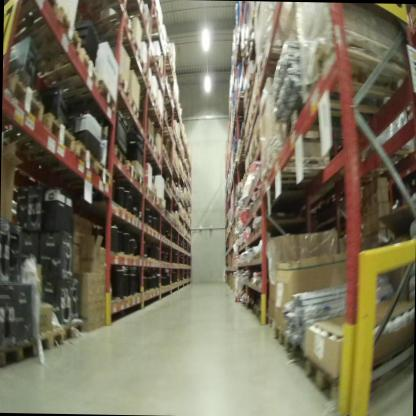pallet: (305, 43, 398, 114), (308, 340, 403, 404), (10, 5, 92, 71), (28, 44, 109, 95), (11, 106, 78, 165), (2, 70, 47, 148), (35, 135, 100, 185), (261, 161, 345, 198), (56, 79, 119, 125), (256, 36, 312, 78), (8, 0, 59, 29), (92, 6, 135, 39), (289, 339, 321, 380), (0, 338, 39, 369), (272, 314, 299, 354), (30, 326, 66, 355), (101, 144, 129, 175), (89, 162, 113, 195), (112, 75, 133, 112), (59, 319, 85, 346), (123, 60, 148, 86), (142, 149, 162, 173), (122, 36, 138, 63), (121, 159, 139, 180), (135, 134, 156, 151), (251, 305, 266, 326), (138, 183, 152, 197), (132, 175, 145, 190), (148, 189, 157, 205)
